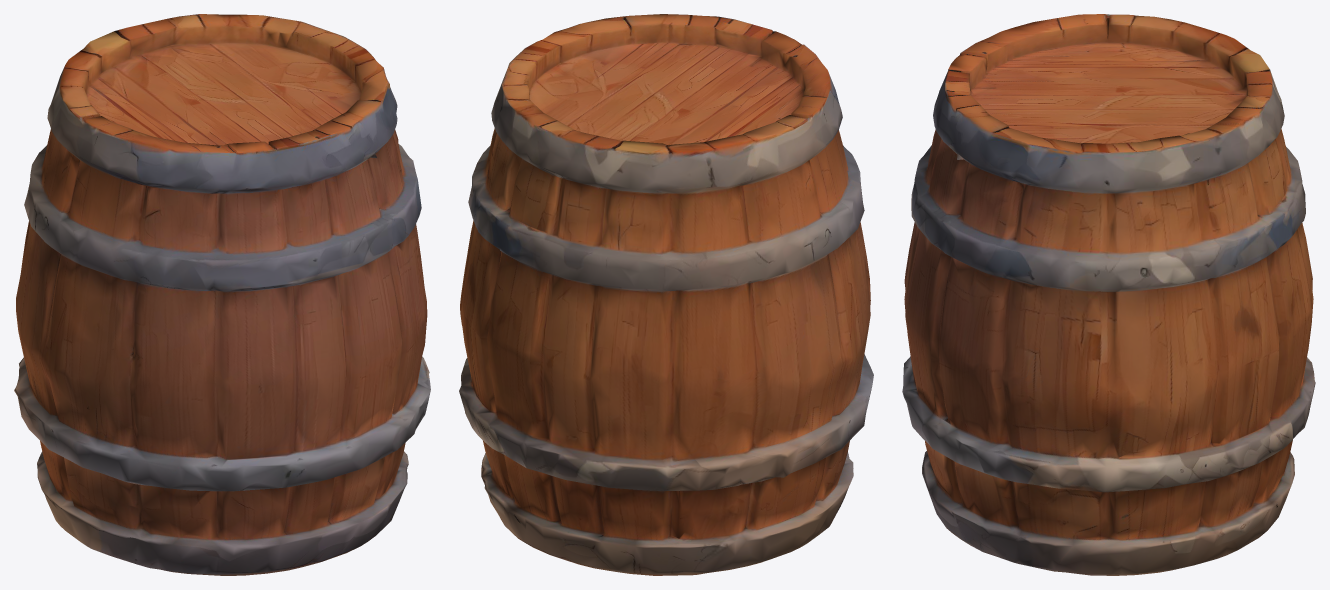
File: barrel-5996tris.glb
3 renders of one model, left to right at view 1: azimuth 30°, elevation 25°; view 2: azimuth 150°, elevation 25°; view 3: azimuth 270°, elevation 25°, orthographic.
Visible parts, largest first — view 1: tripo_node_a4a2f4a1-6b97-419e-b694-1031ecce9f32; view 2: tripo_node_a4a2f4a1-6b97-419e-b694-1031ecce9f32; view 3: tripo_node_a4a2f4a1-6b97-419e-b694-1031ecce9f32.
Boxes of the visible parts, <box> form: tripo_node_a4a2f4a1-6b97-419e-b694-1031ecce9f32: <box>14,14,430,575</box>; tripo_node_a4a2f4a1-6b97-419e-b694-1031ecce9f32: <box>459,14,873,575</box>; tripo_node_a4a2f4a1-6b97-419e-b694-1031ecce9f32: <box>902,14,1315,575</box>.
Size of the model in its own units: 0.8835 by 0.9997 by 0.876.
1 material, 1 textured.
